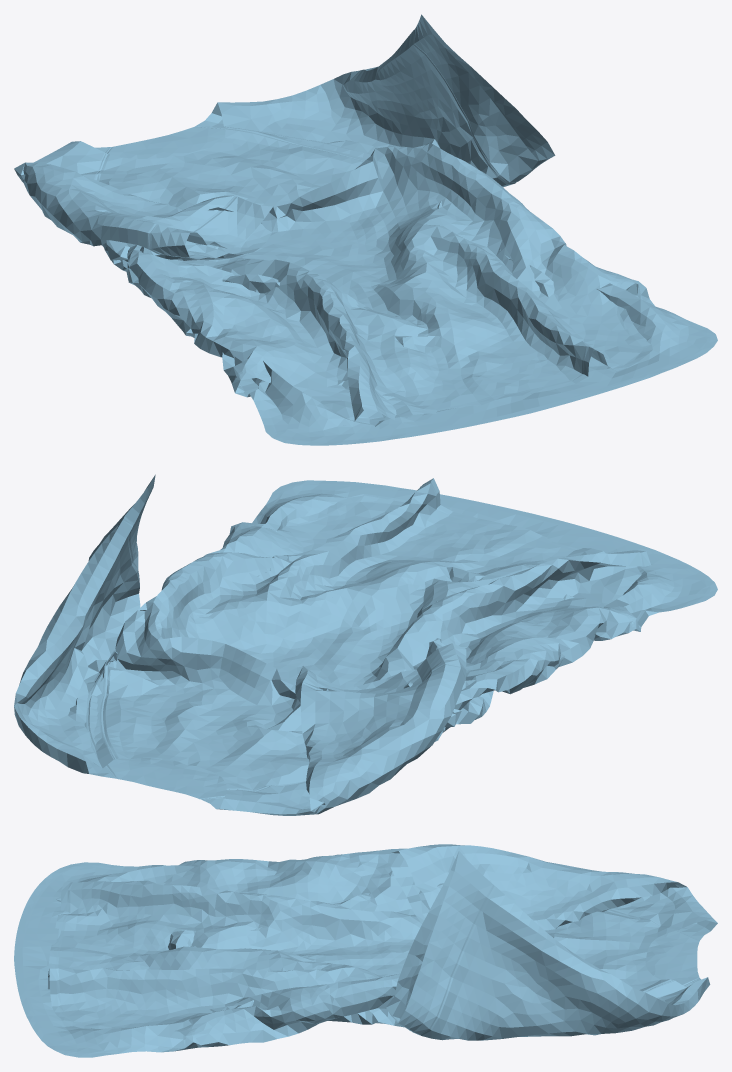
The model's file is frame_11.glb.
3 renders of one model, top to bottom at view 1: azimuth 30°, elevation 25°; view 2: azimuth 150°, elevation 25°; view 3: azimuth 270°, elevation 25°, orthographic. The views are drawn at different scales.
Visible parts, largest first — view 1: frame_11.obj; view 2: frame_11.obj; view 3: frame_11.obj.
Part boxes in pixels (<box>): frame_11.obj: <box>14,14,717,445</box>; frame_11.obj: <box>14,474,717,815</box>; frame_11.obj: <box>14,844,717,1057</box>.
Size of the model in its own units: 1.23 by 0.5043 by 1.81.
